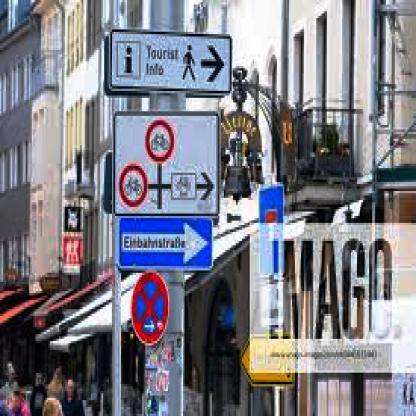No stopping: (132, 272, 172, 342)
